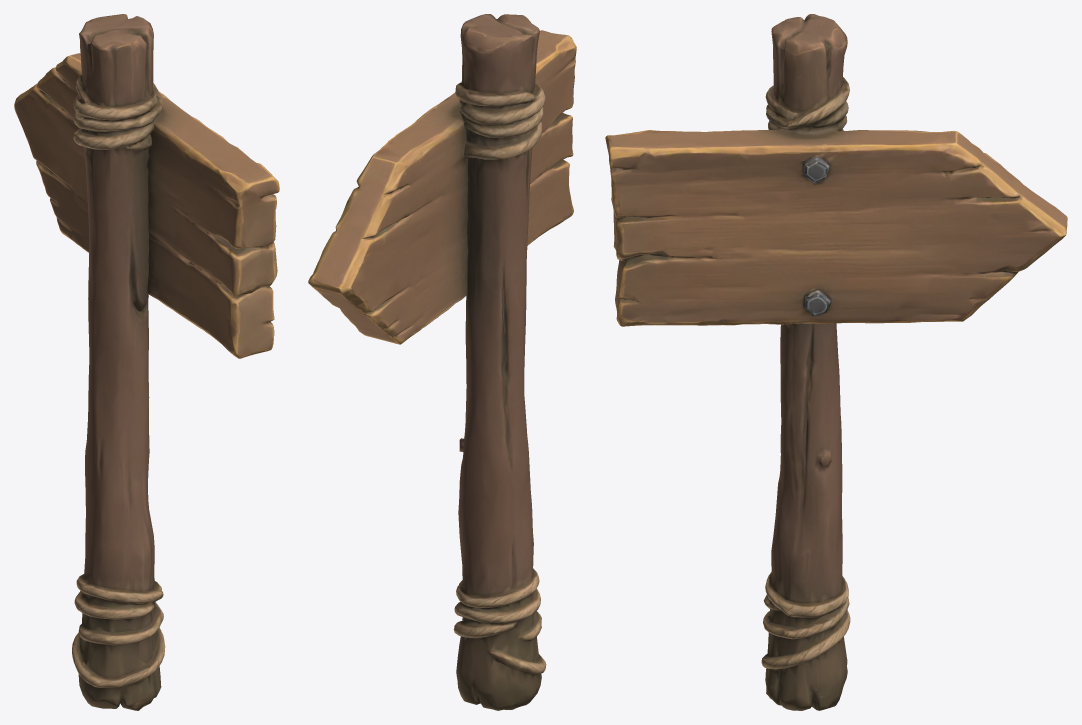
File: cartel_parque.glb
The picture shows the model from 3 angles, left to right: view 1: azimuth 30°, elevation 25°; view 2: azimuth 150°, elevation 25°; view 3: azimuth 270°, elevation 25°; orthographic projection.
Visible parts, largest first — view 1: tripo_node_87ff1c09-31eb-4d1d-a98f-bbec1ccaa9af; view 2: tripo_node_87ff1c09-31eb-4d1d-a98f-bbec1ccaa9af; view 3: tripo_node_87ff1c09-31eb-4d1d-a98f-bbec1ccaa9af.
Boxes of the visible parts, x1,y1,x2,y2 form: tripo_node_87ff1c09-31eb-4d1d-a98f-bbec1ccaa9af: (14,14,279,710); tripo_node_87ff1c09-31eb-4d1d-a98f-bbec1ccaa9af: (308,14,576,710); tripo_node_87ff1c09-31eb-4d1d-a98f-bbec1ccaa9af: (605,14,1067,710).
Bounding box in the file's own units: 0.1681 × 1 × 0.6264.
1 material, 1 textured.
